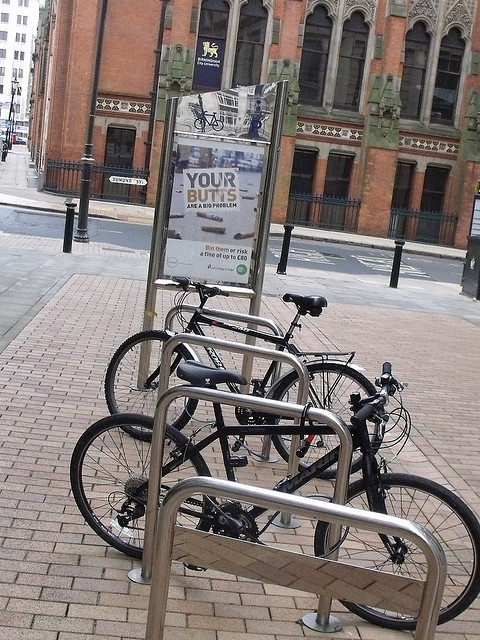non-vehicle: (71, 366, 480, 631), (106, 270, 379, 425)
